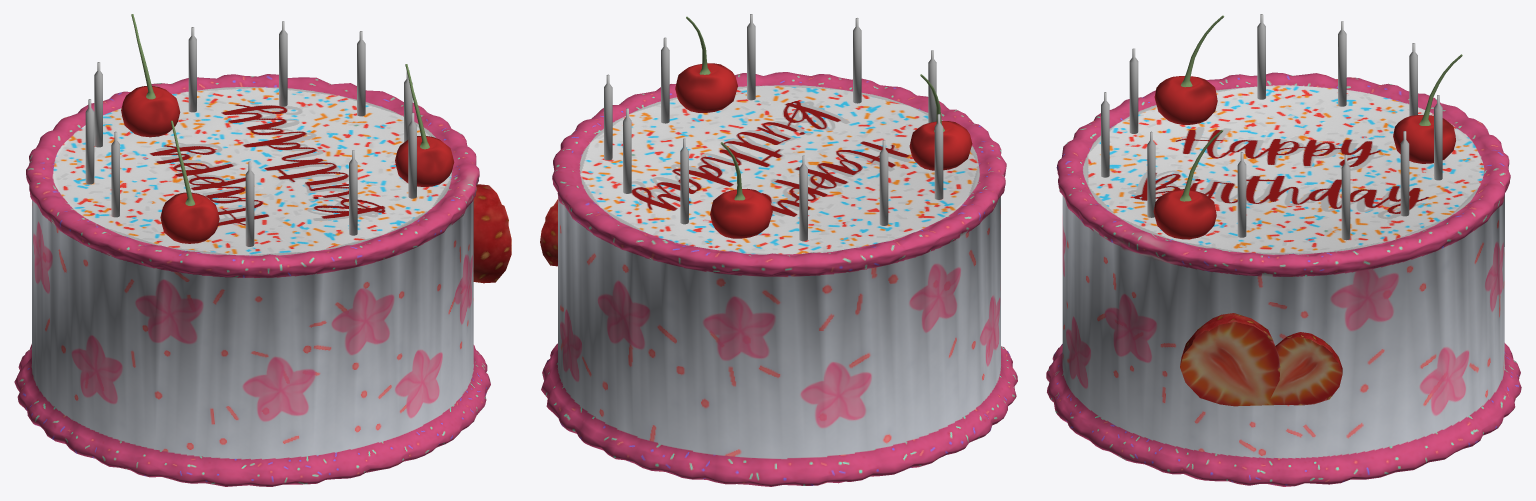
The model's file is Cake_A.glb.
The picture shows the model from 3 angles, left to right: view 1: azimuth 30°, elevation 25°; view 2: azimuth 150°, elevation 25°; view 3: azimuth 270°, elevation 25°; orthographic projection.
Parts seen in each view (by area): view 1: Cake_A; view 2: Cake_A; view 3: Cake_A.
Part boxes in pixels (x1,y1,x2,y2): Cake_A: (14,14,511,486); Cake_A: (540,14,1017,486); Cake_A: (1046,14,1521,486).
Size of the model in its own units: 0.6131 by 0.4482 by 0.602.
1 material, 1 textured.
